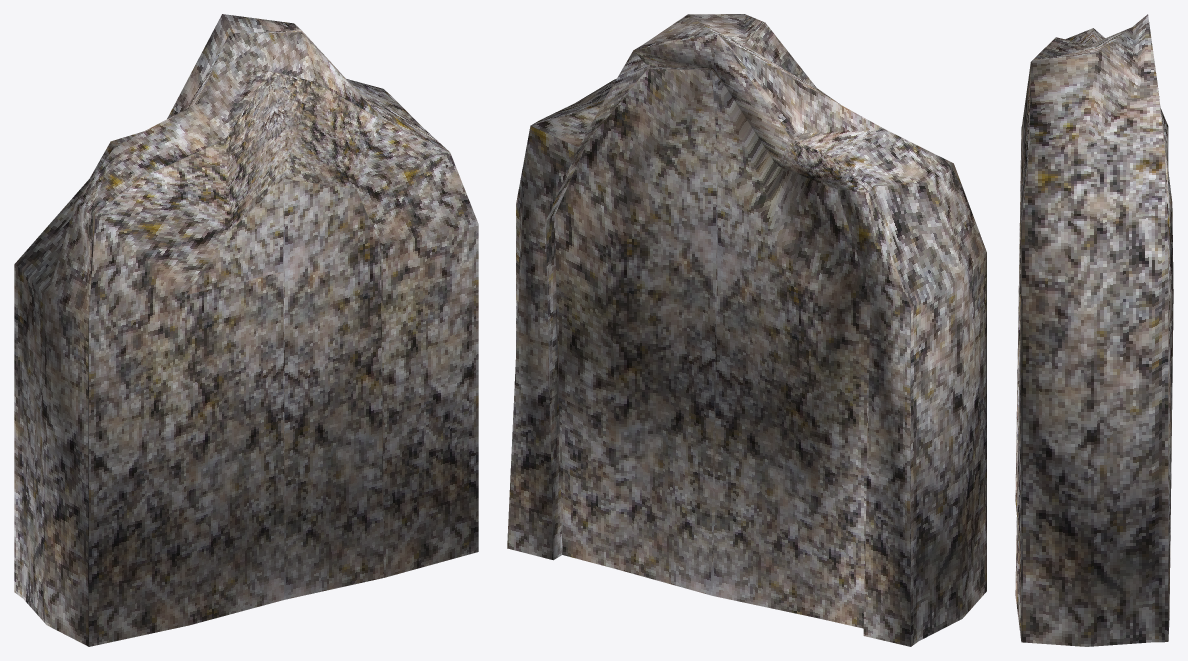
The model's file is grave_broken.glb.
The picture shows the model from 3 angles, left to right: view 1: azimuth 30°, elevation 25°; view 2: azimuth 150°, elevation 25°; view 3: azimuth 270°, elevation 25°; orthographic projection. The views are drawn at different scales.
Visible parts, largest first — view 1: gravestone_broken; view 2: gravestone_broken; view 3: gravestone_broken.
Part boxes in pixels (bbox=[...]): gravestone_broken: bbox=[14, 14, 478, 646]; gravestone_broken: bbox=[507, 14, 986, 646]; gravestone_broken: bbox=[1015, 14, 1173, 646].
Size of the model in its own units: 1.3 by 1.64 by 0.4395.
Materials: 1 (1 with a texture image).
